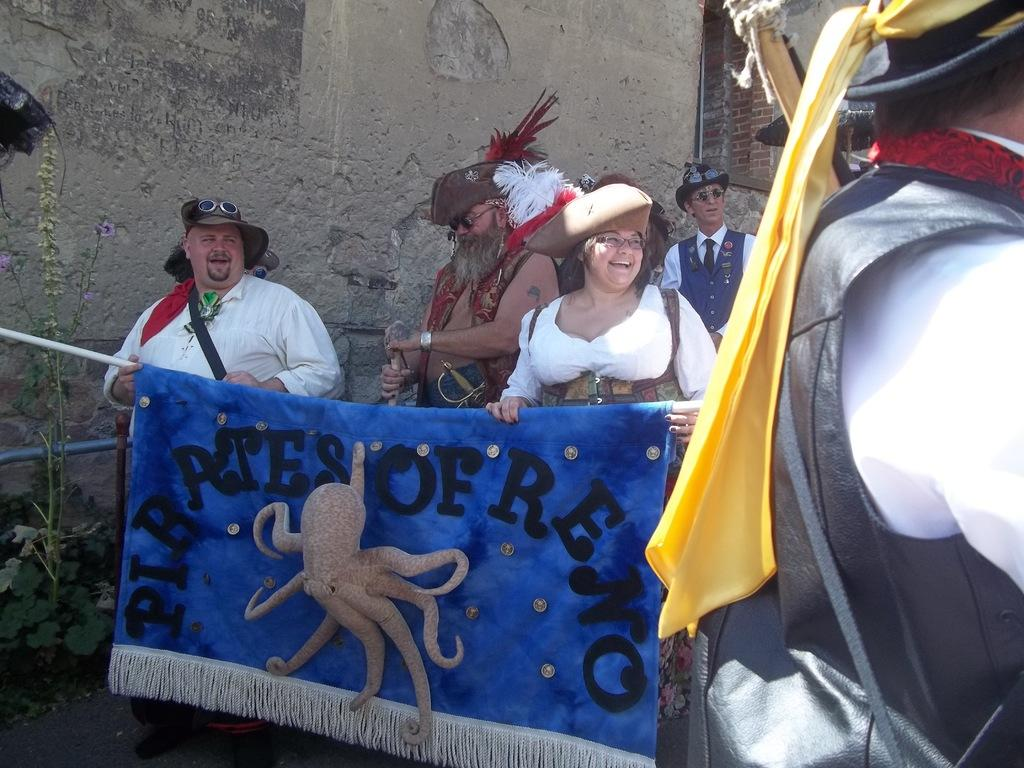Hat: (843, 0, 1023, 107), (431, 90, 560, 226), (182, 200, 268, 270), (670, 162, 730, 212)
